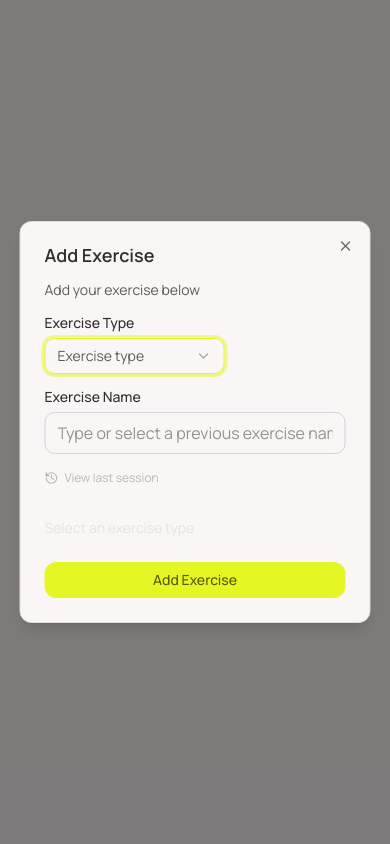
AddExerciseModal › selects previous exercise name from combobox options
Click the field with placeholder "Type or select a previous exercise name...".
click(195, 433)  # box x1=44 y1=412 x2=346 y2=454
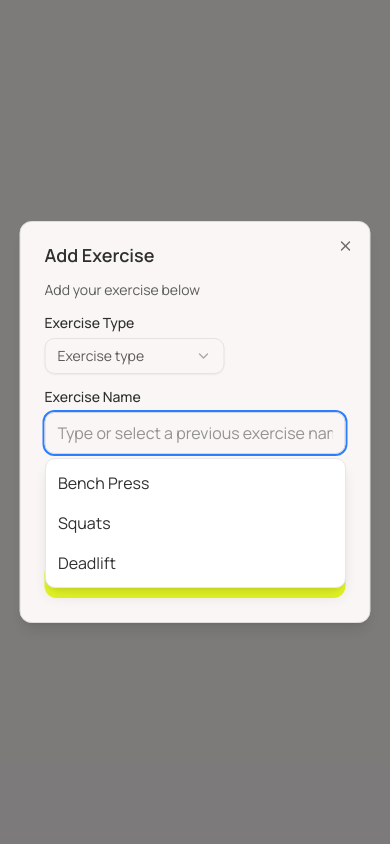
Click the button "Squats".
click(84, 523)  # box x1=46 y1=503 x2=345 y2=543
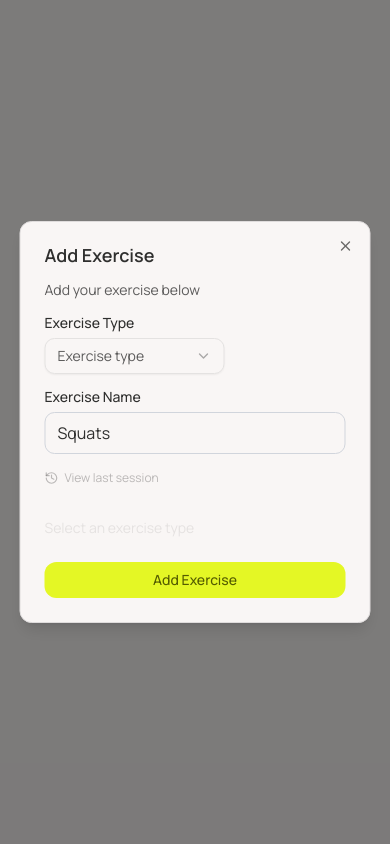
Expected: the field with placeholder "Type or select a previous exercise name..." holds "Squats", x1=44 y1=412 x2=346 y2=454
